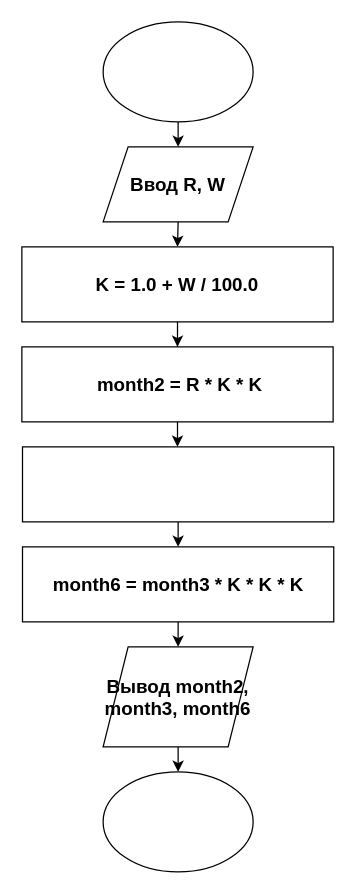
Image size: 356x894. Some labels were removed from this diagram. The centre of each missing label's shape, as x and y in pixels:
"month3 = month2 * K" goes at point (177, 484).
"Конец" goes at point (177, 821).
"Начало" goes at point (177, 71).
